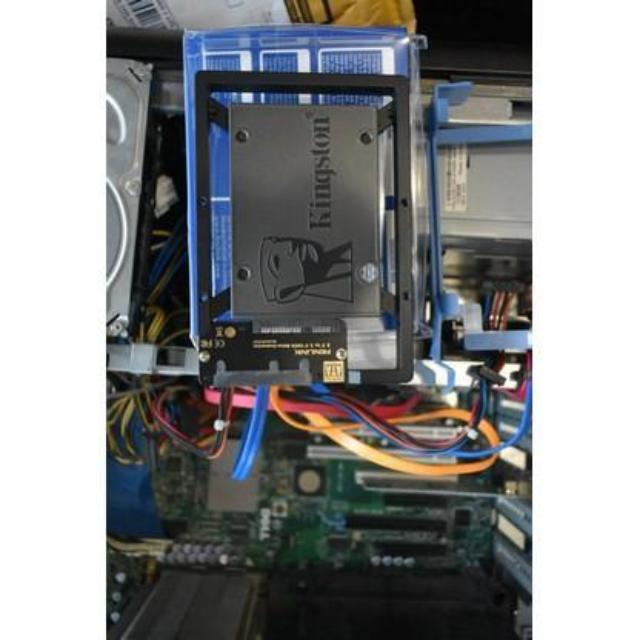DISK: (231, 93, 386, 322)
